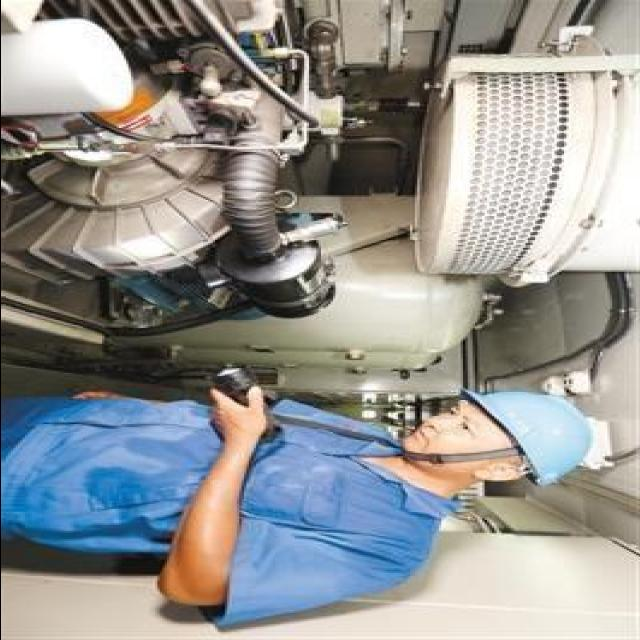helmet: (454, 379, 600, 494)
